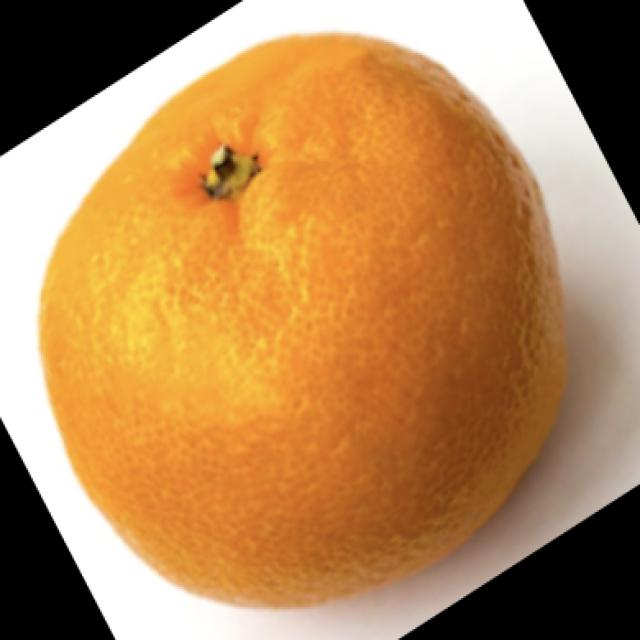matang: (43, 31, 565, 614)
